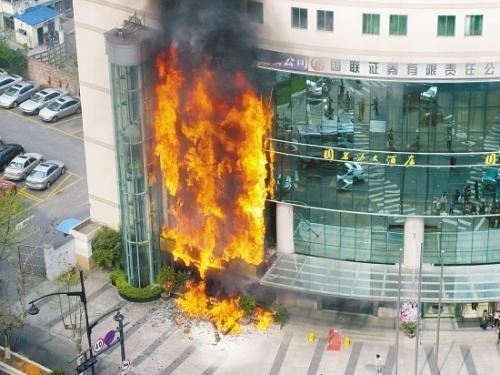fire: (153, 41, 274, 297)
